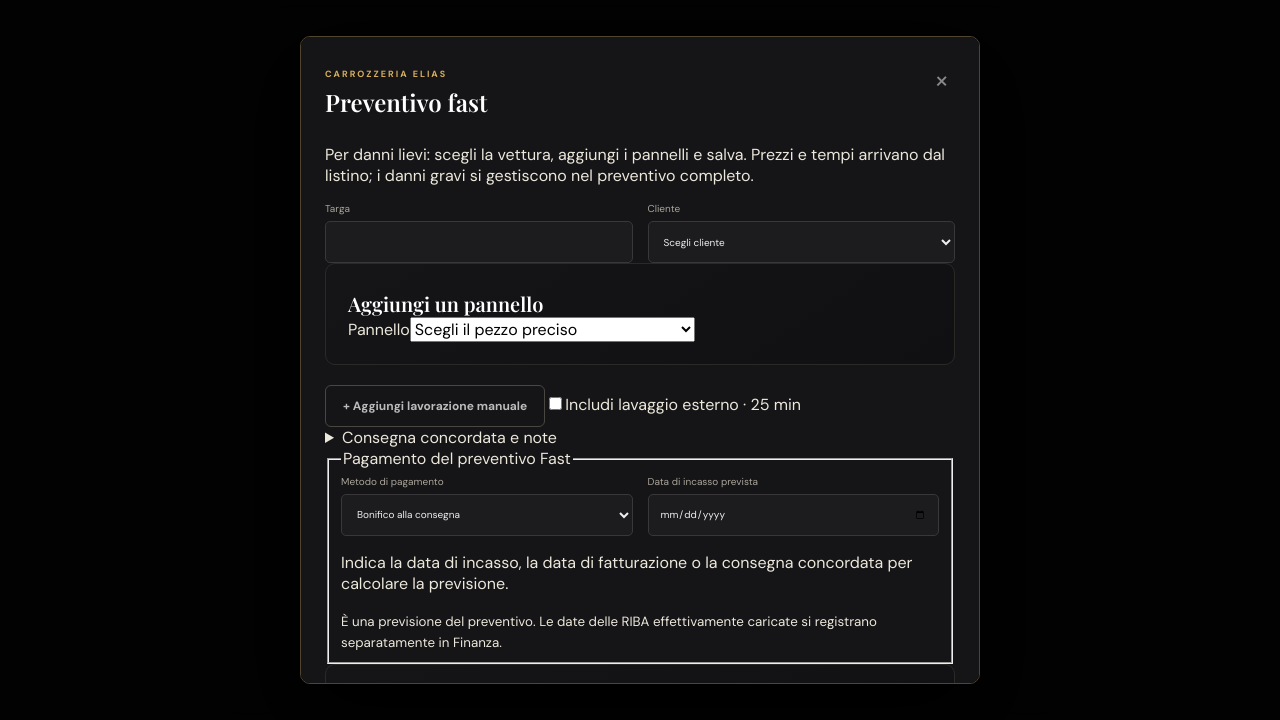
Test case: mostra il confronto economico prima della conferma e lo aggiorna cambiando prezzo e tempi
This screenshot has width=1280, height=720.
Step 1. Click the button "+ Aggiungi lavorazione manuale" → click(435, 406), box left=325, top=385, right=545, bottom=427
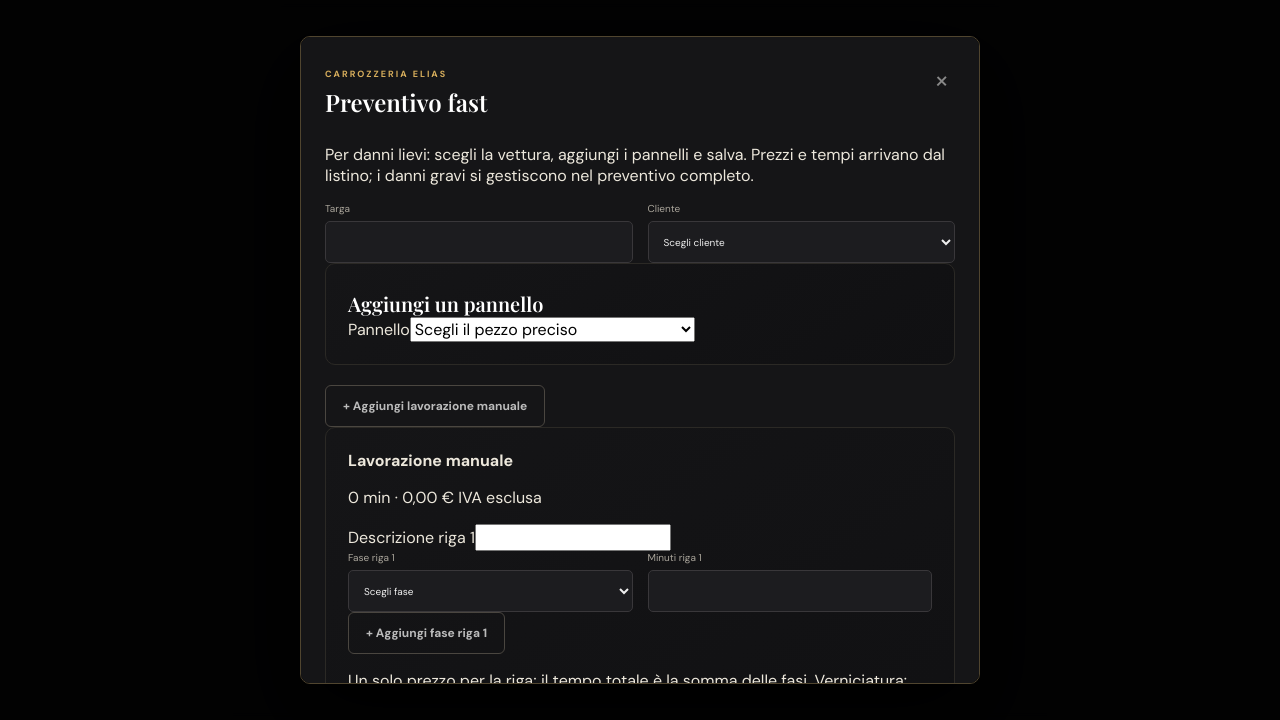
Step 2. Type "Ripristino personalizzato" into the field labelled "Descrizione riga 1" → (573, 538), box left=475, top=524, right=671, bottom=551
Step 3. Select "Verniciatura" in the dropdown labelled "Fase riga 1" → (490, 591), box left=348, top=570, right=632, bottom=612
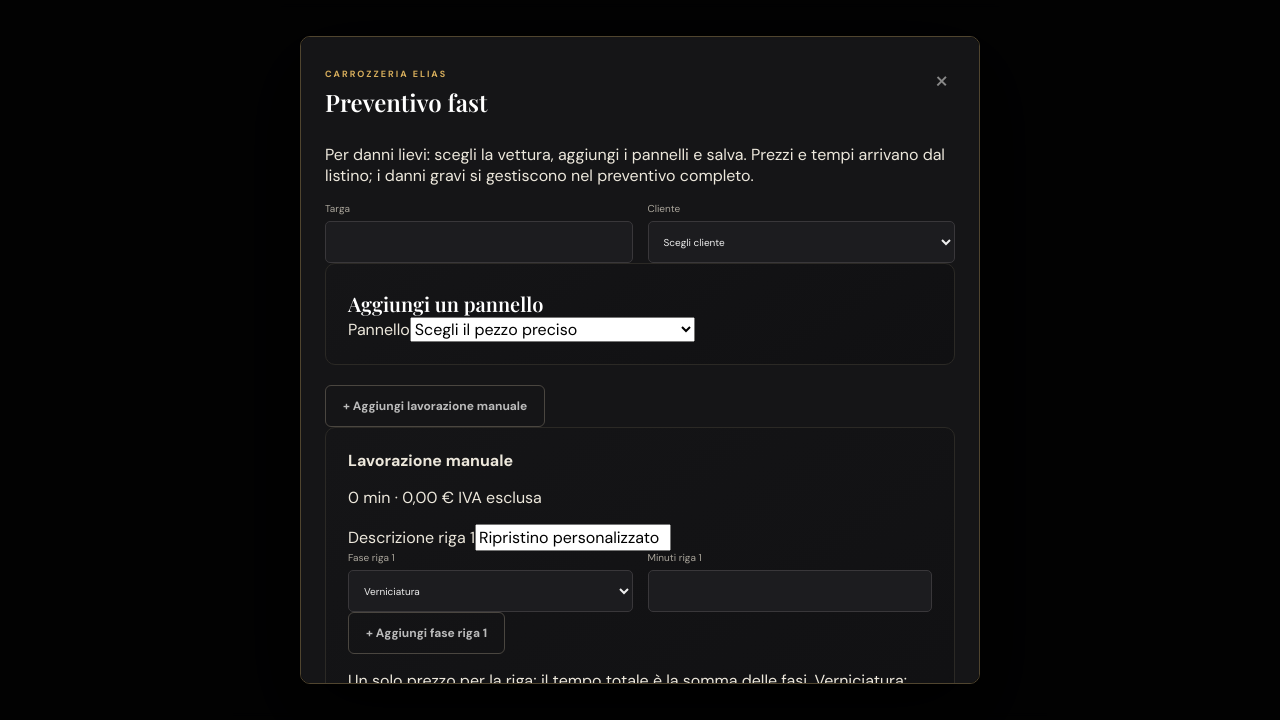
Step 4. Type "120" into the number field labelled "Minuti riga 1" → (790, 591), box left=648, top=570, right=932, bottom=612
(page scrolled)
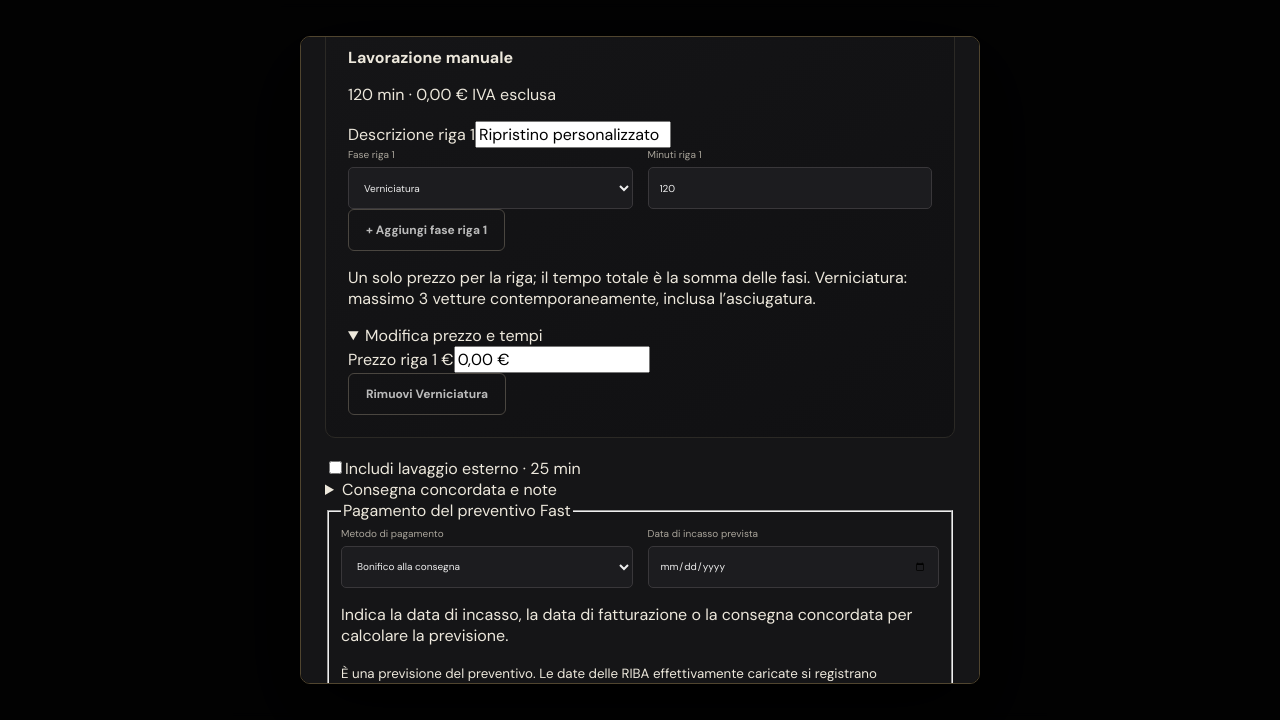
Step 5. Replace the text in the field labelled "Prezzo riga 1 €" with "200" → (552, 360), box left=454, top=346, right=650, bottom=373
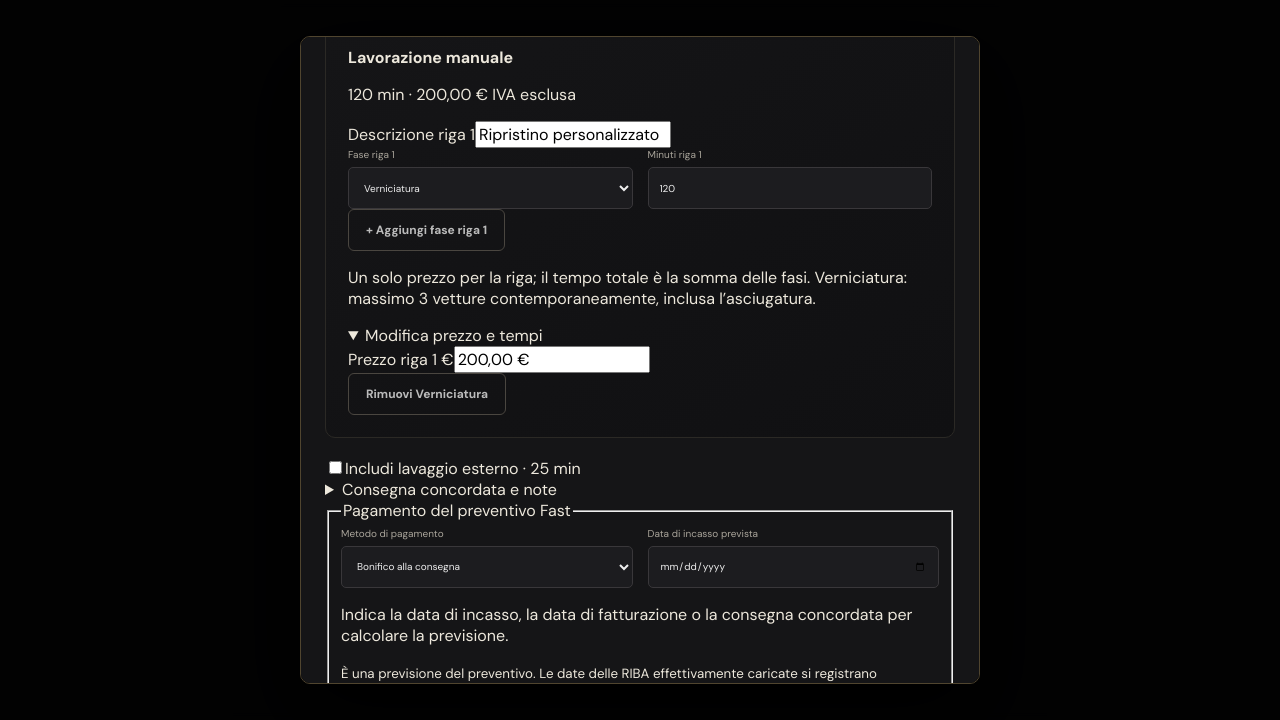
Step 6. Replace the text in the field labelled "Prezzo riga 1 €" with "50" → (552, 360), box left=454, top=346, right=650, bottom=373
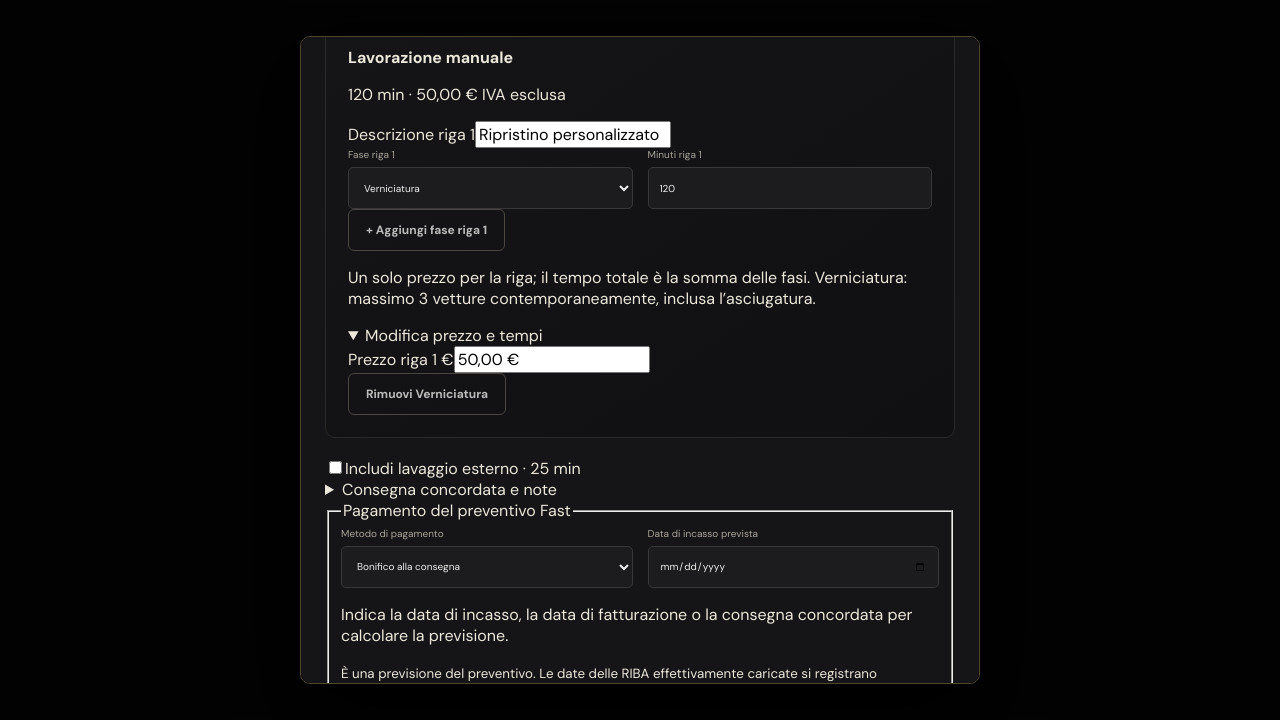
Step 7. Replace the text in the number field labelled "Minuti riga 1" with "15" → (790, 188), box left=648, top=167, right=932, bottom=209
(page scrolled)
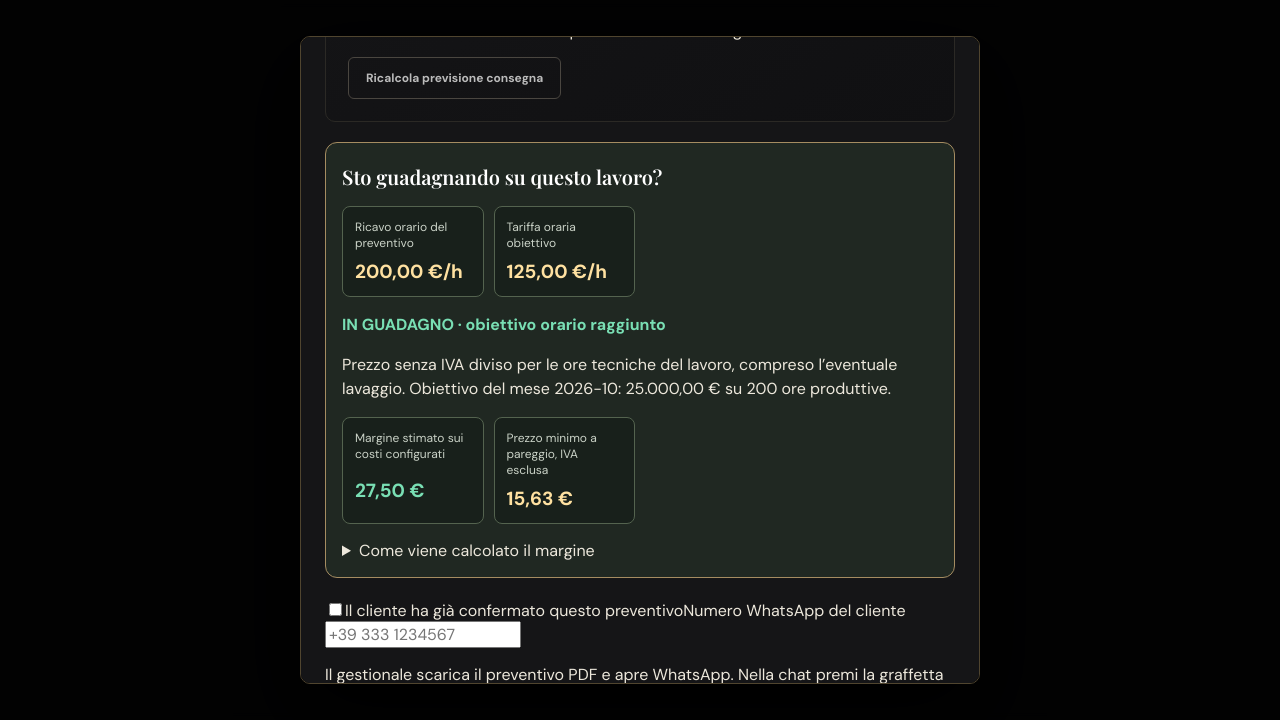
Result: the element named "Convenienza del preventivo" shows "IN GUADAGNO · obiettivo orario raggiunto" at left=342, top=314, right=666, bottom=335
